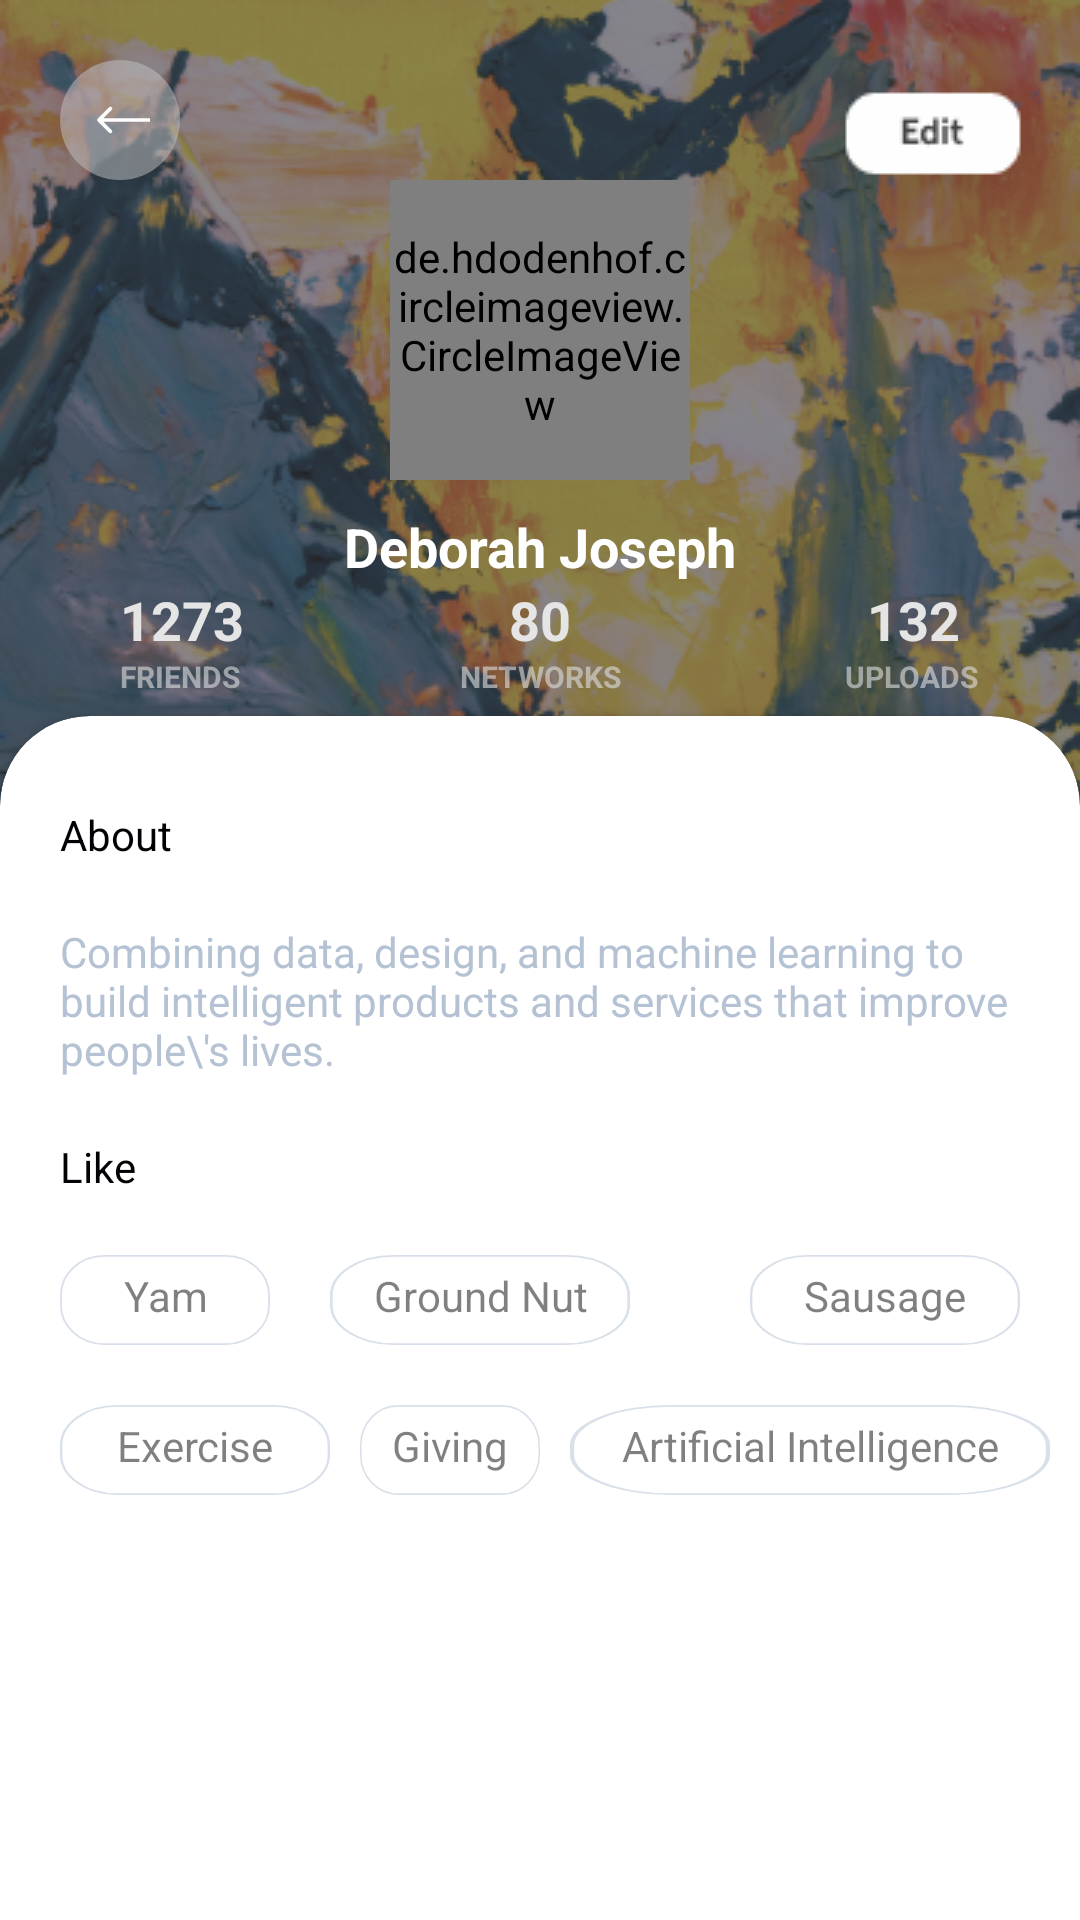

Where to tap for icons on this 1080 x 1920 app screen, as [x,y]:
back: [120,120]
